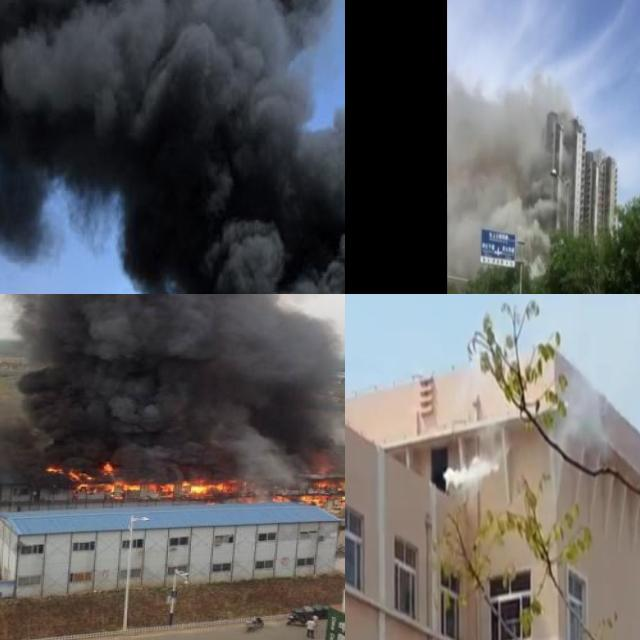fire: (42, 456, 345, 512)
smoke: (0, 0, 345, 294), (0, 294, 345, 486), (450, 76, 538, 216), (442, 410, 510, 499), (561, 374, 608, 458)
